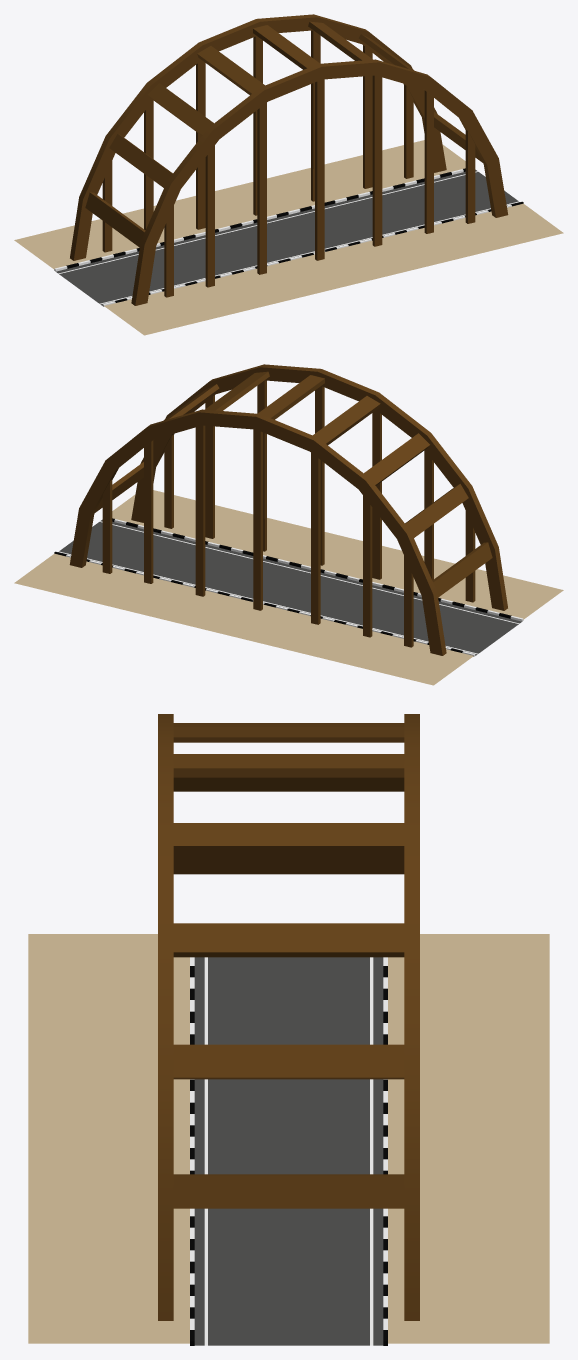
The model's file is bridge_2.fbx.
3 views of the same model, one above another, from view 1: azimuth 30°, elevation 25°; view 2: azimuth 150°, elevation 25°; view 3: azimuth 270°, elevation 25° (orthographic). The views are drawn at different scales.
Parts seen in each view (by area): view 1: bridge_2; view 2: bridge_2; view 3: bridge_2.
Part boxes in pixels (x1,y1,x2,y2): bridge_2: [14, 14, 563, 335]; bridge_2: [14, 364, 563, 685]; bridge_2: [28, 714, 549, 1345].
Size of the model in its own units: 3116 by 1383 by 1676.
